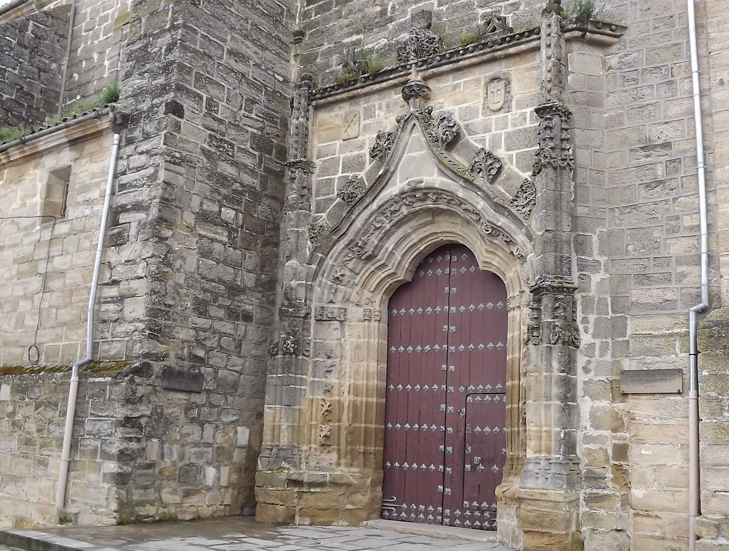arco-trilobulado: (368, 227, 521, 307)
